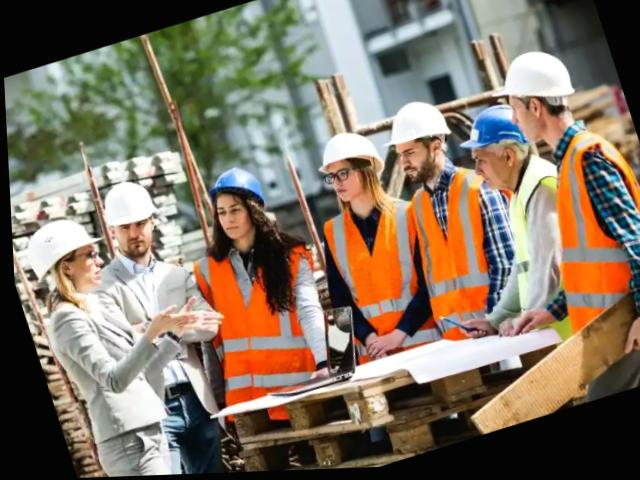helmet: (491, 39, 579, 119), (12, 211, 103, 280), (383, 99, 455, 158), (207, 157, 276, 213), (92, 175, 154, 230), (314, 127, 377, 175), (470, 108, 527, 155)
vest: (512, 128, 640, 360), (188, 230, 333, 412), (311, 194, 435, 352), (488, 167, 594, 338), (406, 176, 513, 330)
